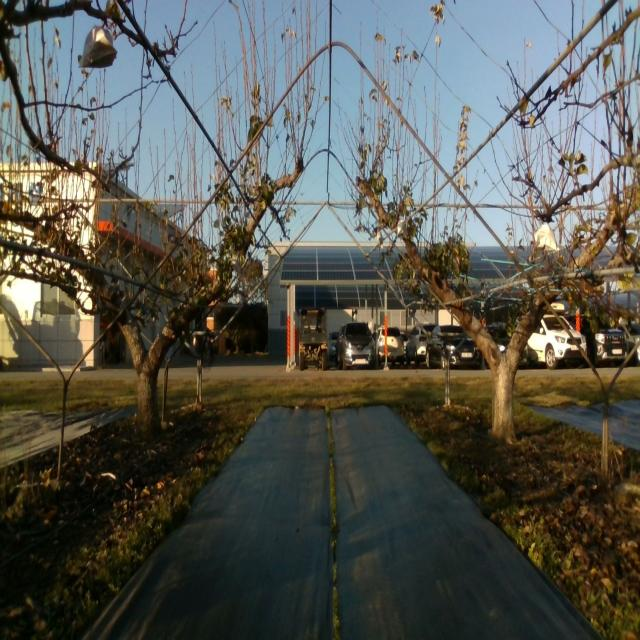pearbags: (78, 23, 118, 68), (534, 222, 559, 252)
